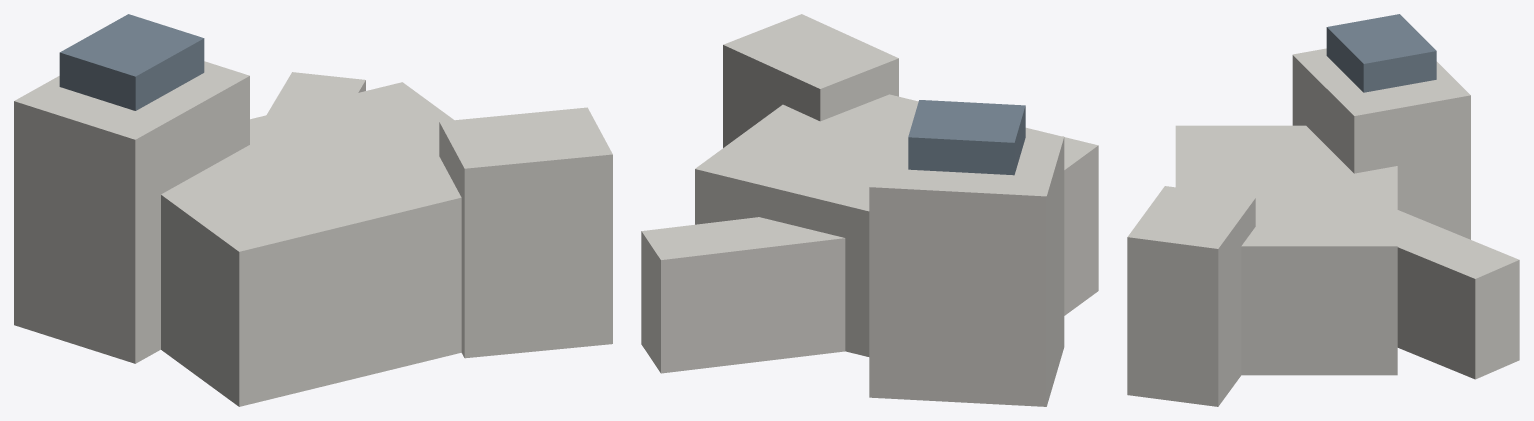
File: weil-vitra-design-museum.glb
3 views of the same model, side by side, from view 1: azimuth 30°, elevation 25°; view 2: azimuth 150°, elevation 25°; view 3: azimuth 270°, elevation 25° (orthographic). The views are drawn at different scales.
Parts seen in each view (by area): view 1: building; view 2: building; view 3: building.
Boxes of the visible parts, left/top/right/bottom form: building: left=14, top=14, right=612, bottom=406; building: left=641, top=14, right=1098, bottom=406; building: left=1127, top=14, right=1519, bottom=406.
Size of the model in its own units: 27.87 by 15.5 by 24.75.
